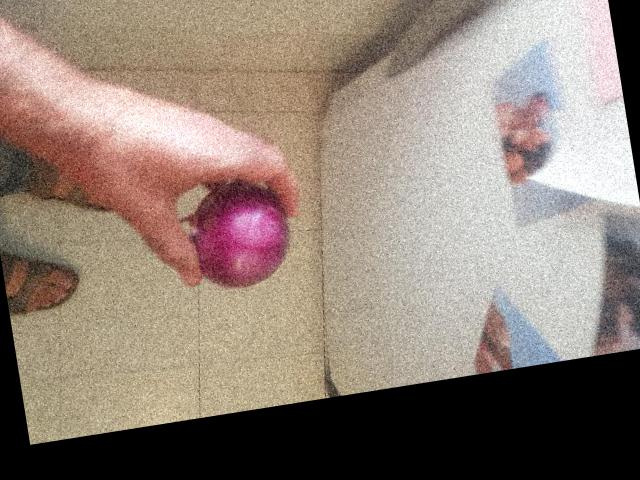onion: (180, 178, 297, 289)
